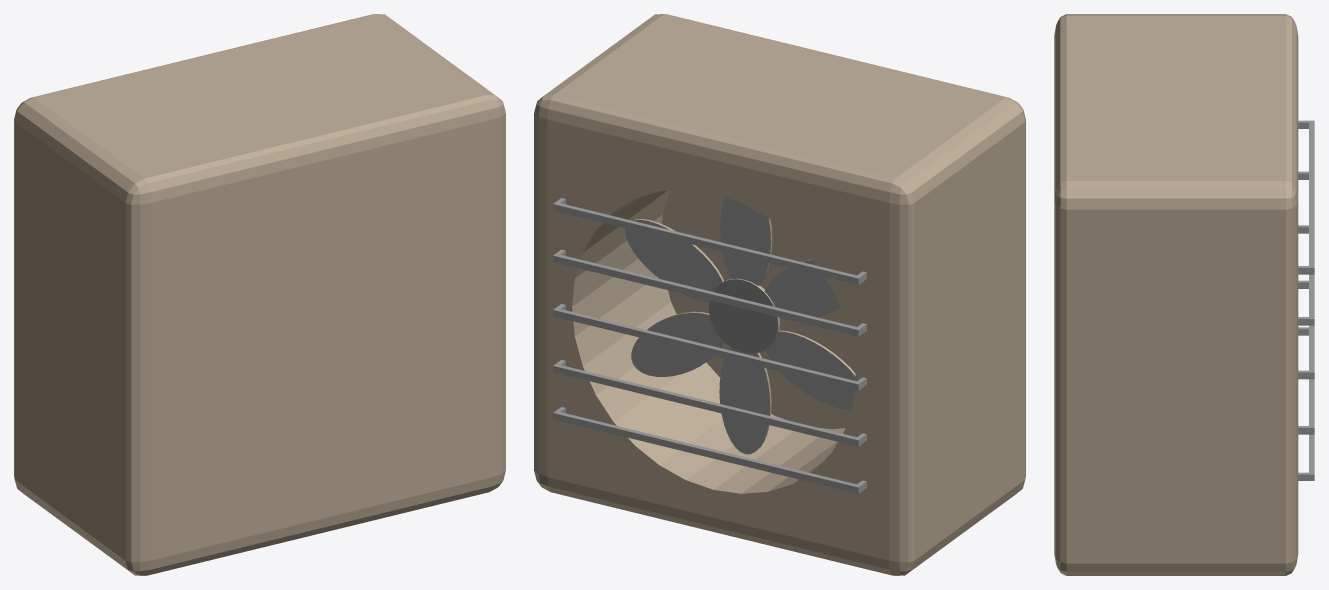
The model's file is Char_Body2.fbx.
The picture shows the model from 3 angles, left to right: view 1: azimuth 30°, elevation 25°; view 2: azimuth 150°, elevation 25°; view 3: azimuth 270°, elevation 25°; orthographic projection.
Parts seen in each view (by area): view 1: Cylinder.004; view 2: Cylinder.004; view 3: Cylinder.004.
Boxes of the visible parts, x1,y1,x2,y2 form: Cylinder.004: (14,14,505,575); Cylinder.004: (534,14,1025,575); Cylinder.004: (1054,14,1314,575).
Size of the model in its own units: 67.63 by 67.63 by 40.59.
